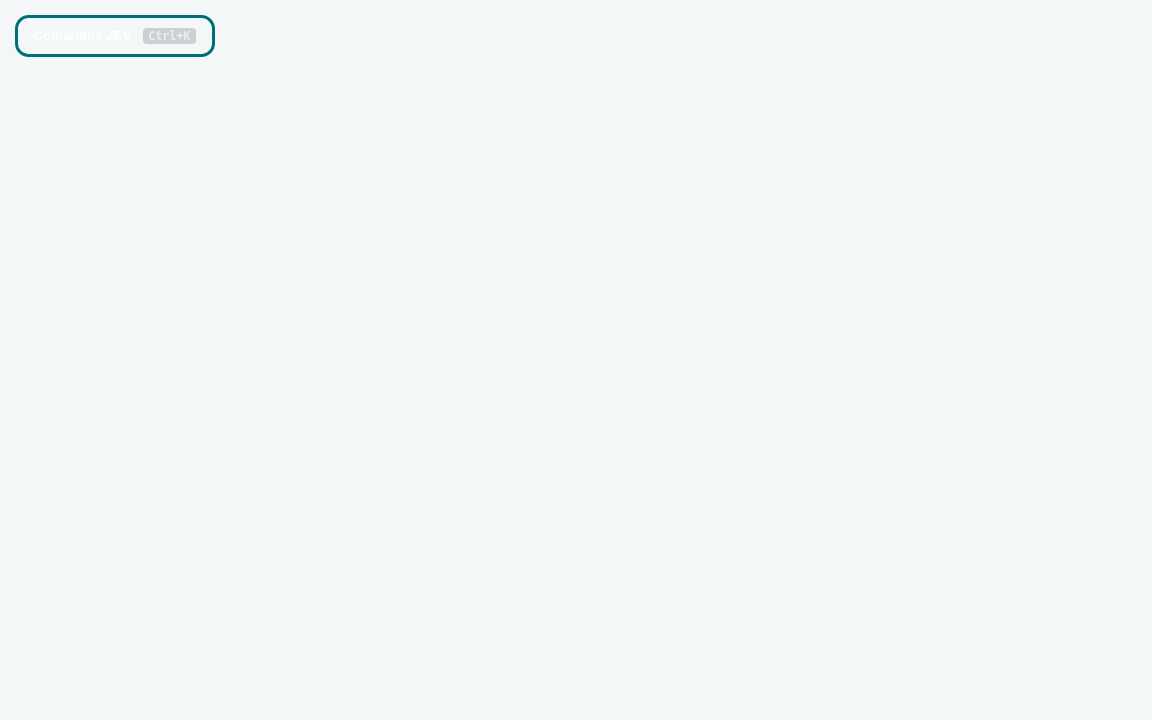
Scenario: ComandosJEV › Ctrl+K abre a busca, Enter cria um draft e devolve foco ao acionador
The width and height of the screenshot is (1152, 720).
Step 1. Press k
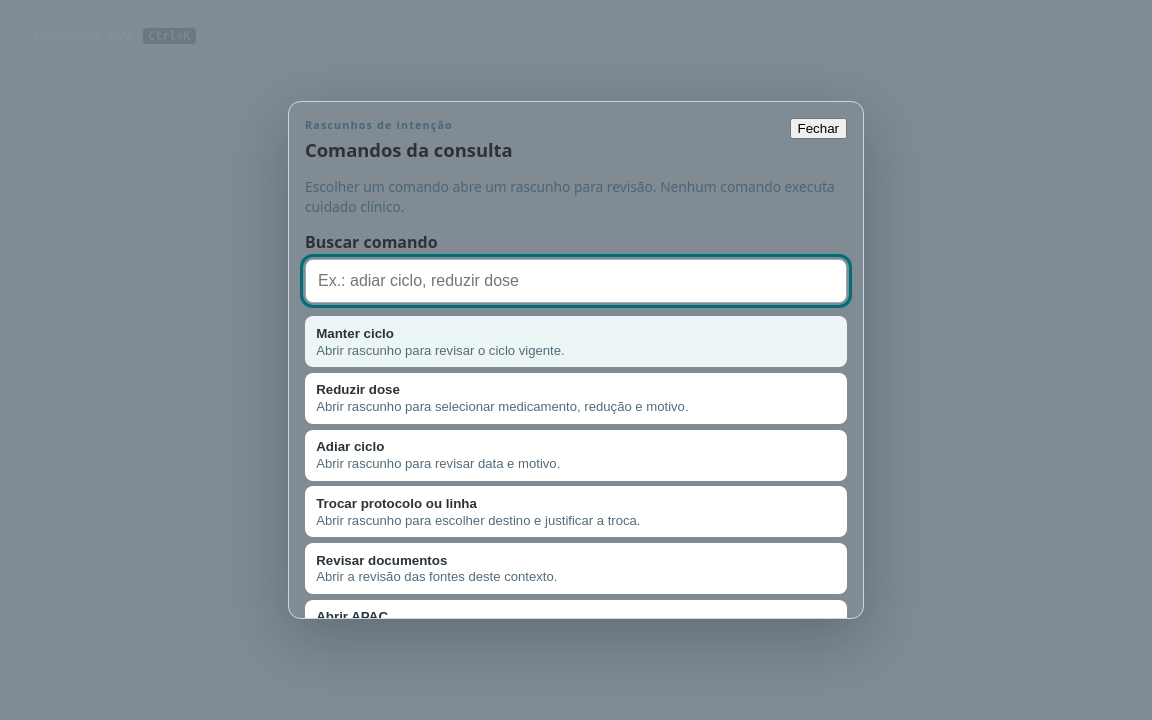
Result: the dialog "Comandos da consulta" is shown at left=288, top=101, right=864, bottom=619
Step 2. Type "reduzir dose" into the dropdown labelled "Buscar comando" → {"x": 576, "y": 281}, box left=305, top=259, right=847, bottom=303
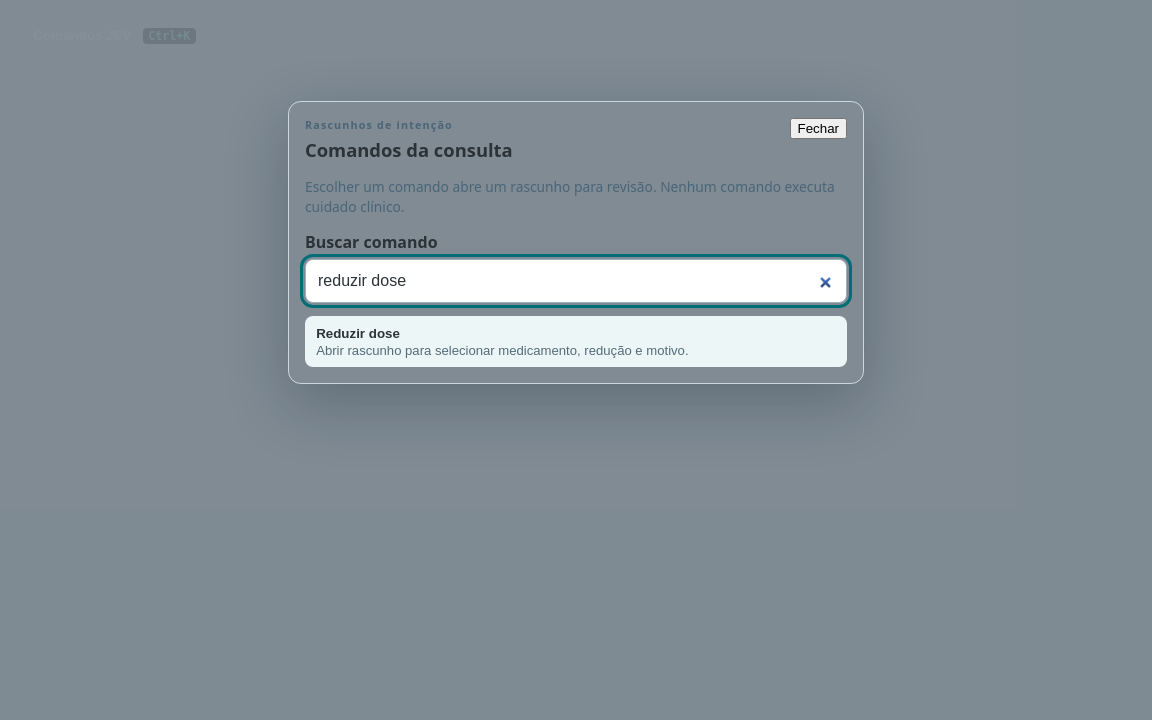
Step 3. Press Enter in the dropdown labelled "Buscar comando", box left=305, top=259, right=847, bottom=303
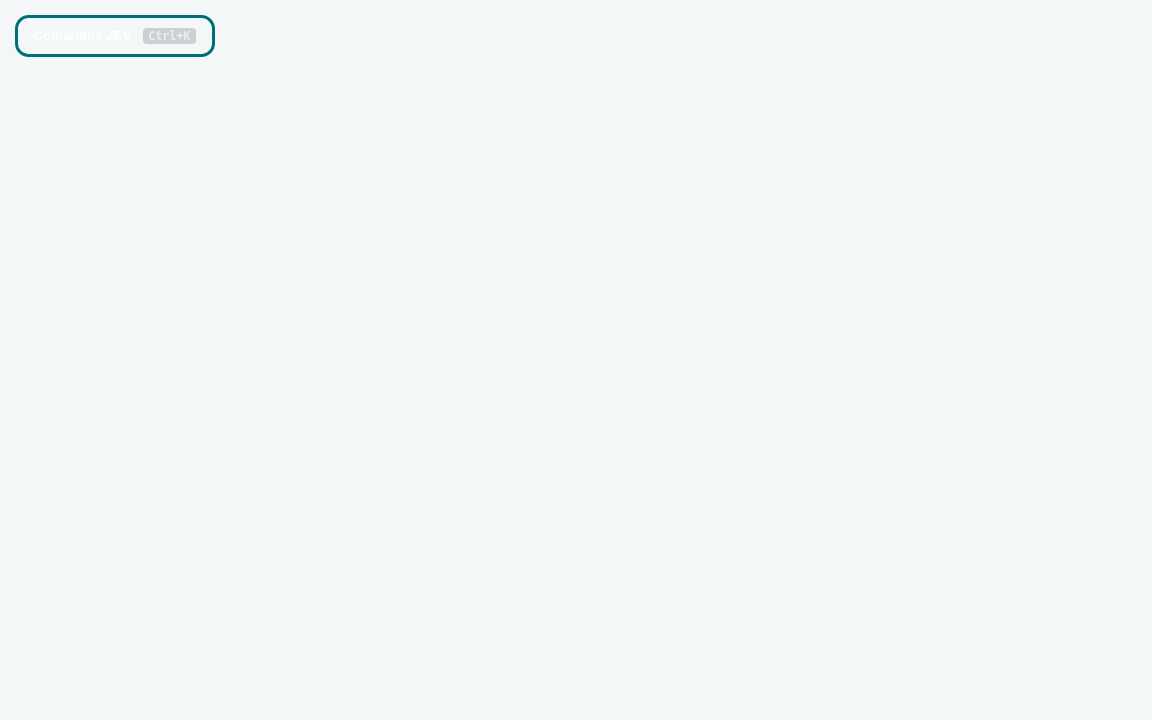
Result: the dialog is gone
